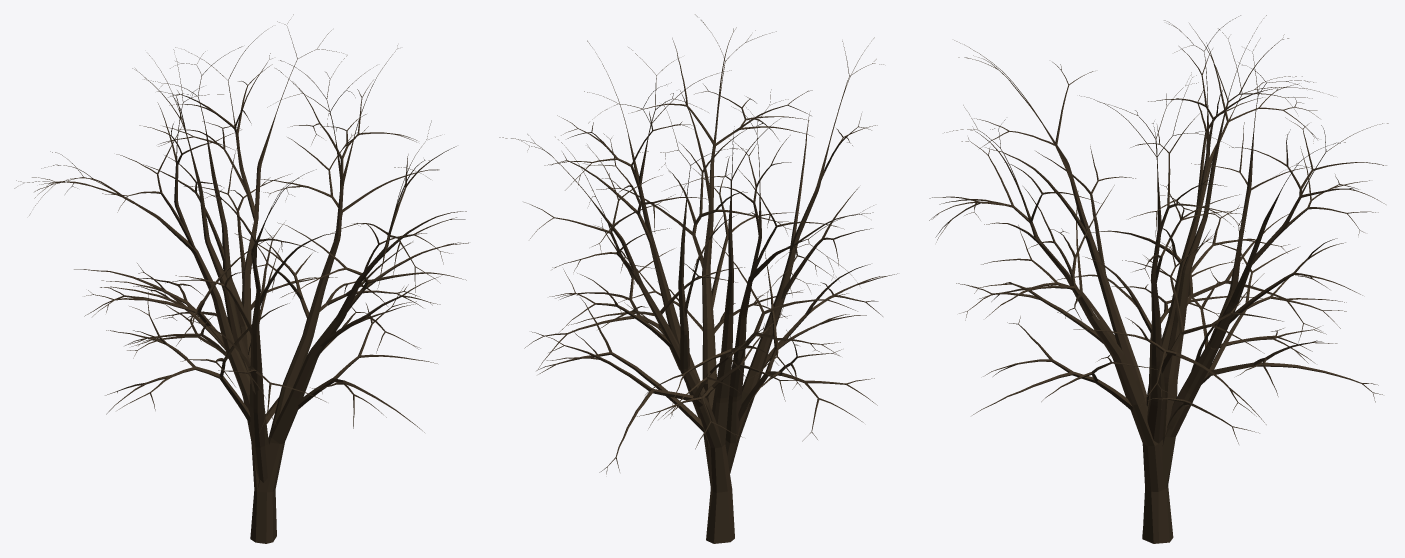
File: Tree_006.fbx
3 renders of one model, left to right at view 1: azimuth 30°, elevation 25°; view 2: azimuth 150°, elevation 25°; view 3: azimuth 270°, elevation 25°, orthographic. The views are drawn at different scales.
Visible parts, largest first — view 1: tree_006; view 2: tree_006; view 3: tree_006.
Part boxes in pixels (x1,y1,x2,y2): tree_006: (14, 14, 468, 543); tree_006: (499, 14, 897, 543); tree_006: (929, 15, 1388, 543).
Size of the model in its own units: 890 by 1108 by 934.
